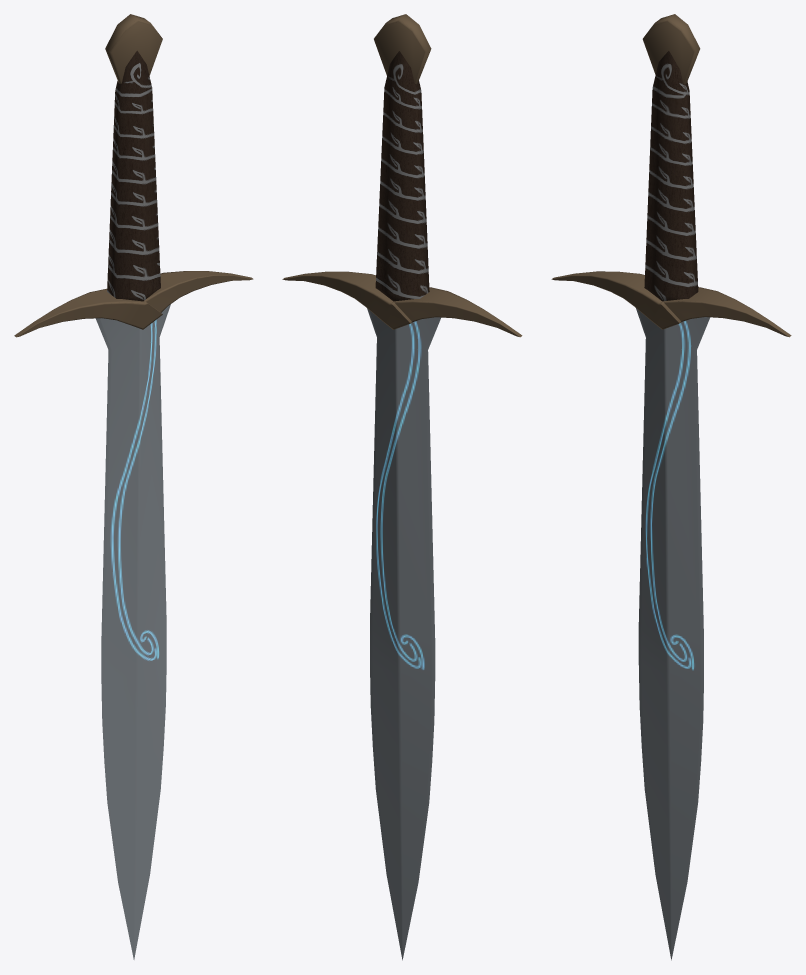
Rendered from sting.glb.
The picture shows the model from 3 angles, left to right: view 1: azimuth 30°, elevation 25°; view 2: azimuth 150°, elevation 25°; view 3: azimuth 330°, elevation 25°; orthographic projection.
Parts seen in each view (by area): view 1: Sting, Grip, Guard, Pommel; view 2: Sting, Grip, Guard, Pommel; view 3: Sting, Grip, Guard, Pommel.
Part boxes in pixels (x1,y1,x2,y2): Sting: (95,304,170,959); Grip: (107,50,160,301); Guard: (14,271,253,337); Pommel: (105,14,162,83); Sting: (367,308,440,960); Grip: (375,51,429,301); Guard: (282,271,522,337); Pommel: (374,14,431,83); Sting: (636,308,710,960); Grip: (644,51,698,301); Guard: (551,271,791,337); Pommel: (642,14,700,83).
Bounding box in the file's own units: 1.25 × 4.75 × 0.2205.
4 materials, 4 textured.
